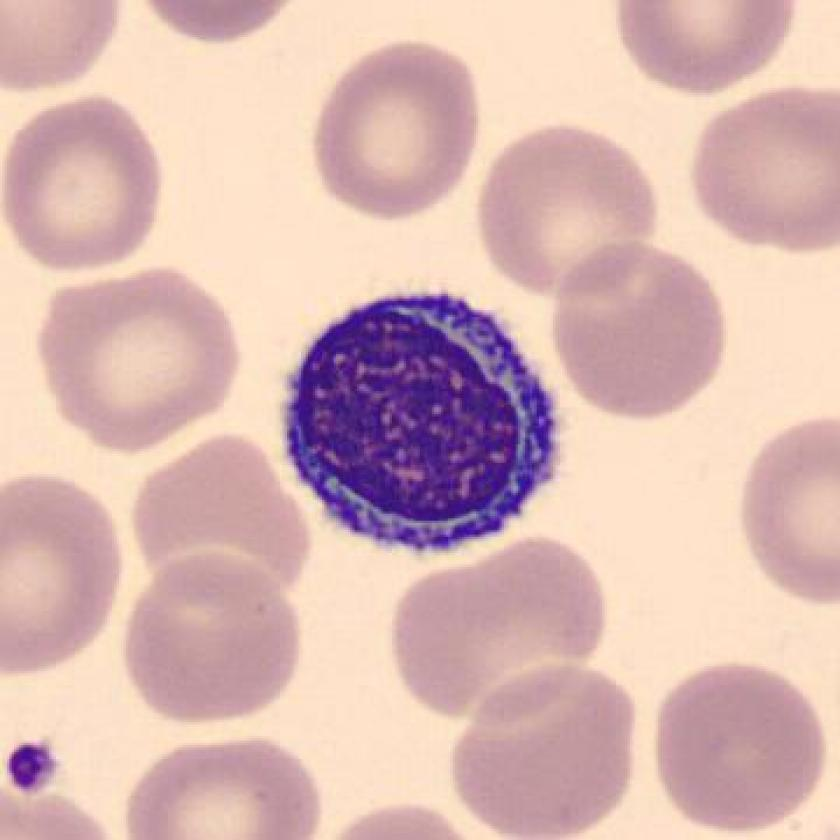lymphocyte: (270, 279, 585, 575)
